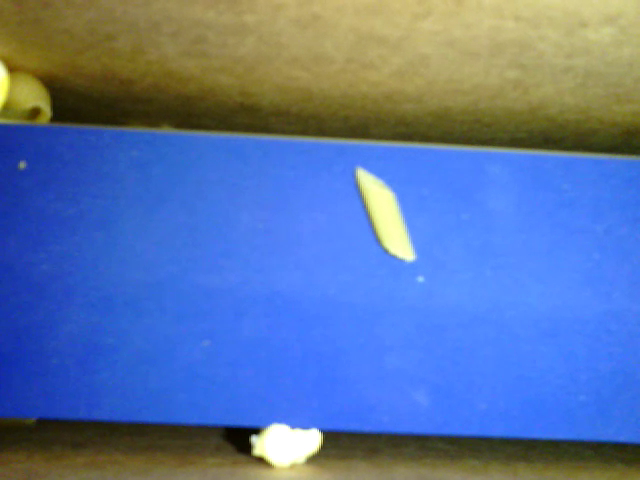penne: (354, 162, 419, 263)
shell: (1, 70, 53, 126), (58, 125, 59, 128)
